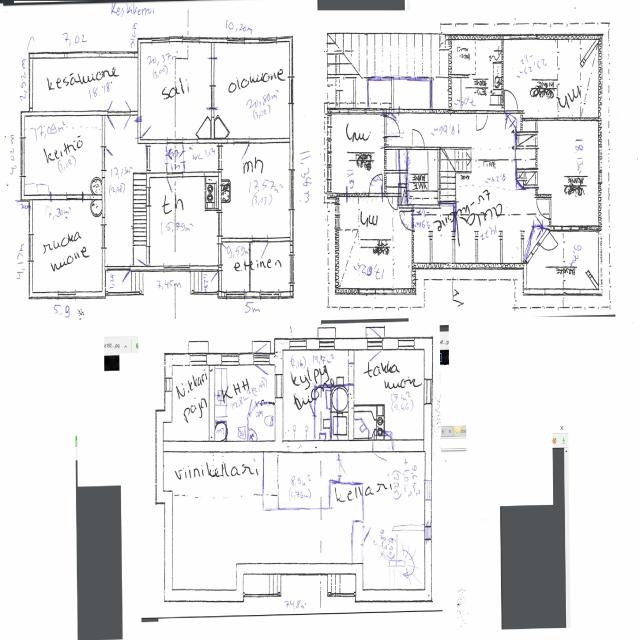door: (373, 412, 392, 452), (373, 440, 392, 479), (253, 353, 270, 389), (253, 329, 270, 365), (368, 338, 382, 372), (368, 316, 382, 350), (102, 146, 121, 170), (375, 526, 392, 551), (497, 114, 514, 139), (234, 139, 249, 166), (252, 237, 267, 264), (218, 244, 236, 265), (115, 266, 129, 292), (168, 172, 182, 198), (243, 392, 258, 415), (134, 246, 150, 264), (536, 200, 552, 218), (206, 272, 222, 289), (413, 128, 425, 150), (476, 110, 488, 132), (118, 112, 130, 133), (108, 112, 119, 133), (108, 95, 119, 116), (534, 210, 545, 231), (138, 121, 152, 137), (534, 226, 545, 246), (119, 95, 129, 116), (303, 400, 316, 416), (338, 459, 350, 475), (387, 193, 397, 211), (360, 530, 372, 544), (165, 151, 177, 165), (173, 150, 185, 164)
